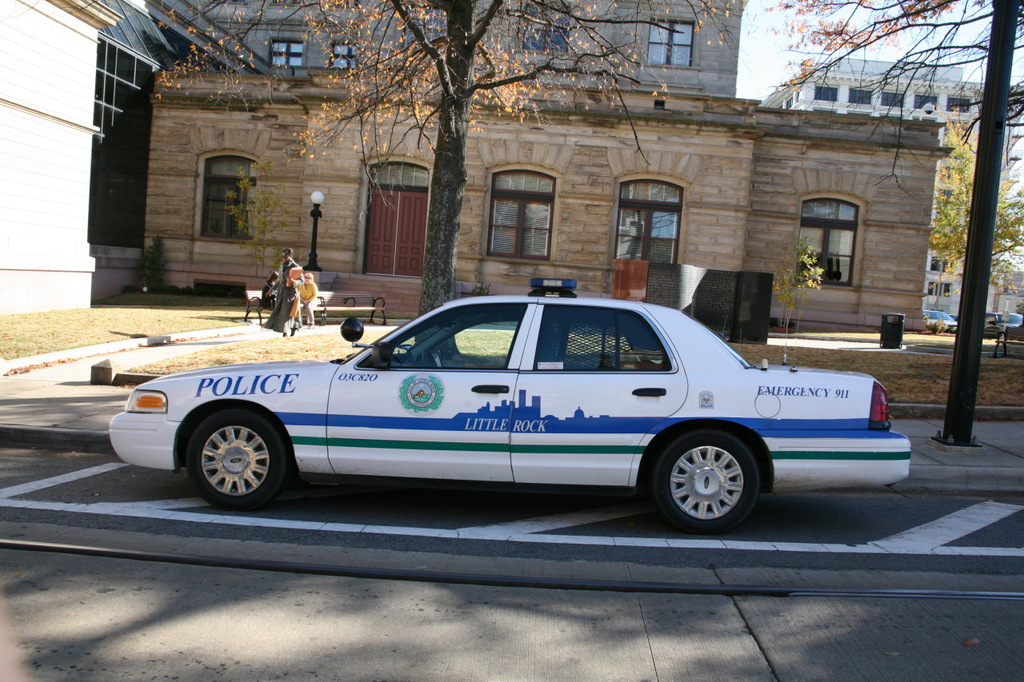Car: (108, 279, 909, 537)
